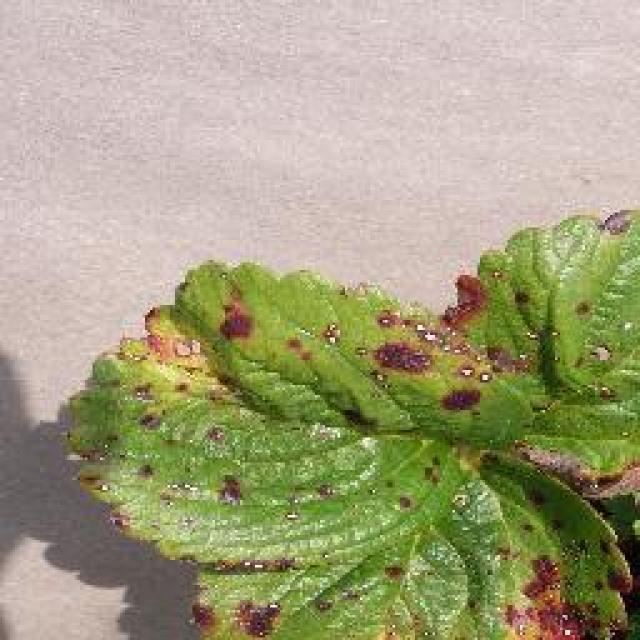Strawberry leaf scorch: (168, 288, 612, 638)
